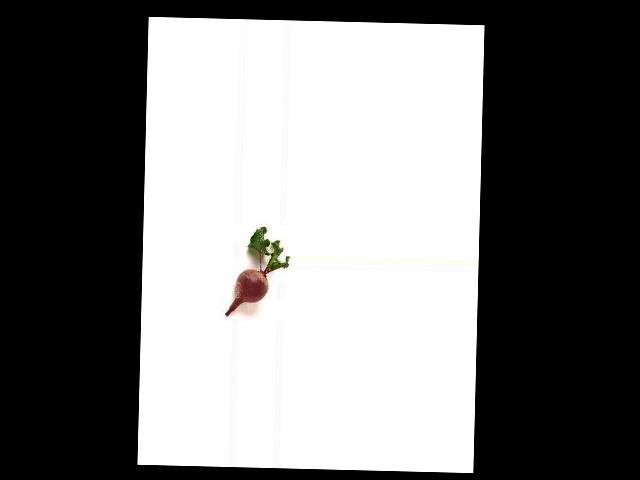beet: (225, 225, 290, 317)
